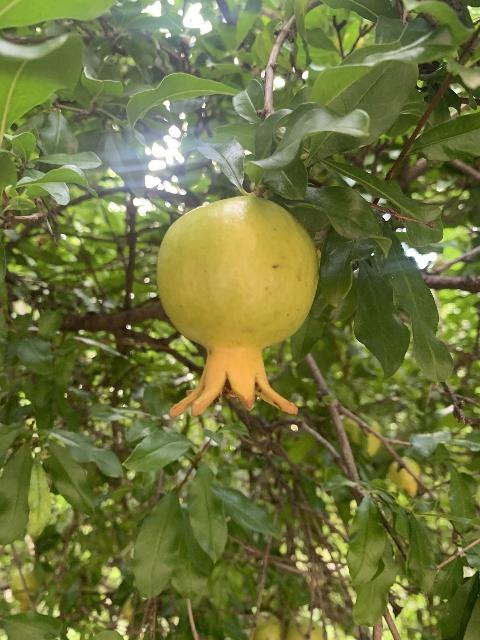mid-growth: (155, 198, 319, 419)
